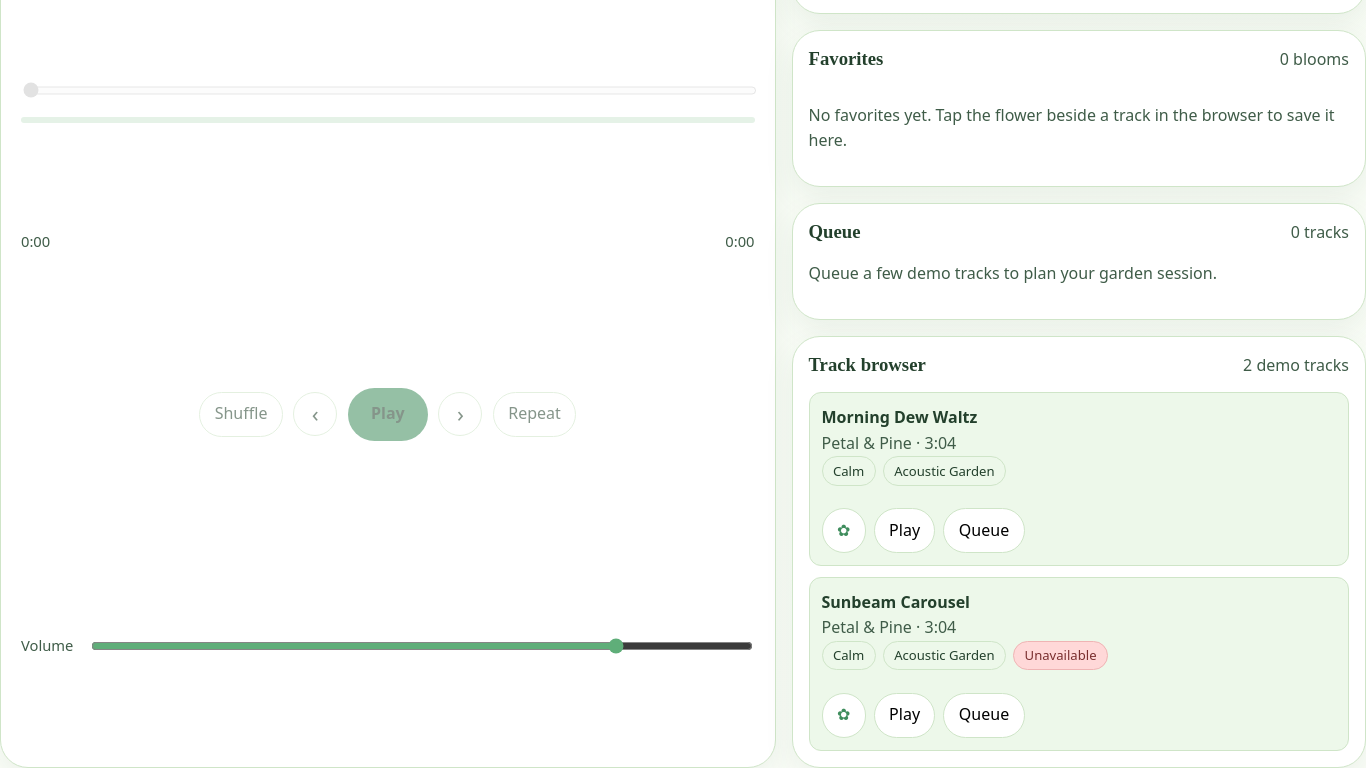
VisualPlayer › favorites a track from the browser and updates UI state
The width and height of the screenshot is (1366, 768).
(page scrolled)
Expected: the text "No favorites yet" is shown, [808, 104, 1335, 151]
Click the button named "Add Morning Dew Waltz to favorites": {"x": 844, "y": 531} [822, 508, 866, 553]
(page scrolled)
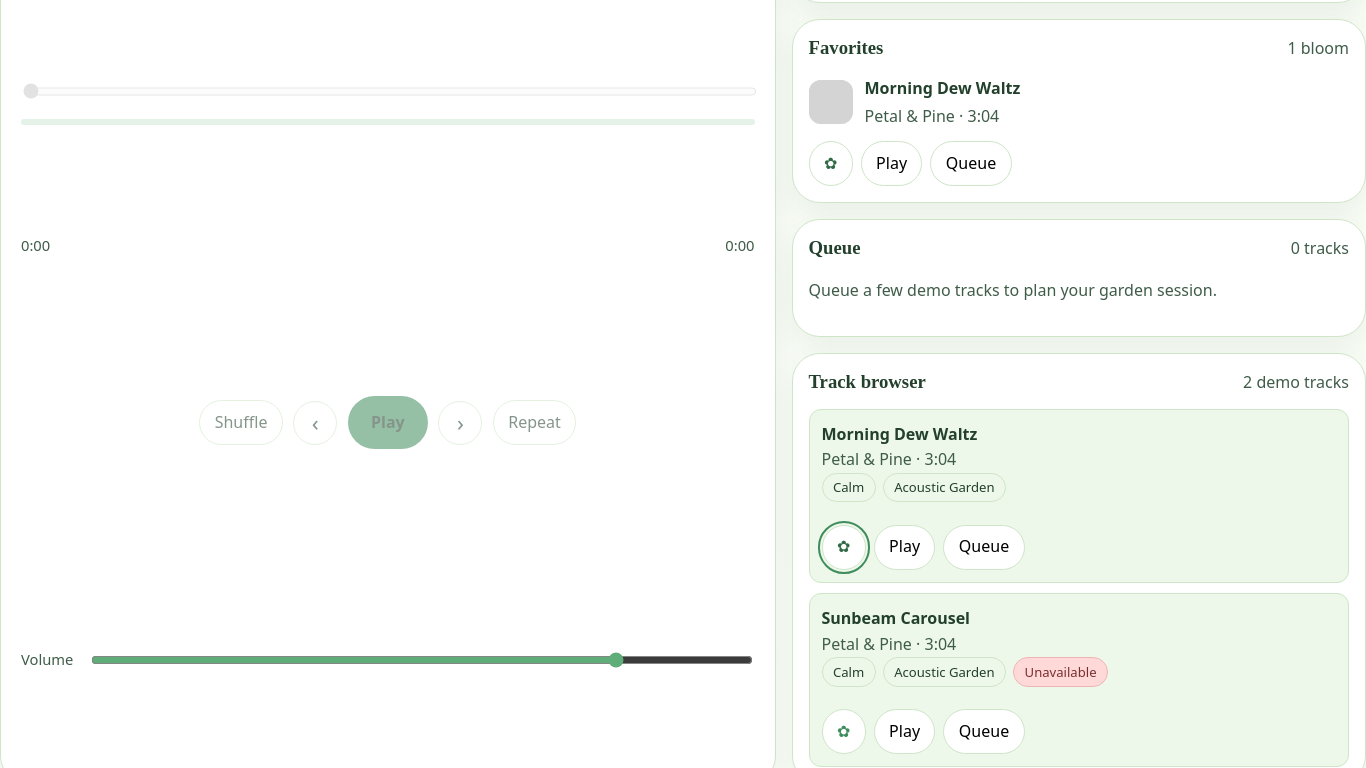
Expected: the element named "Favorite tracks" shows "Morning Dew Waltz", [864, 77, 1020, 99]
